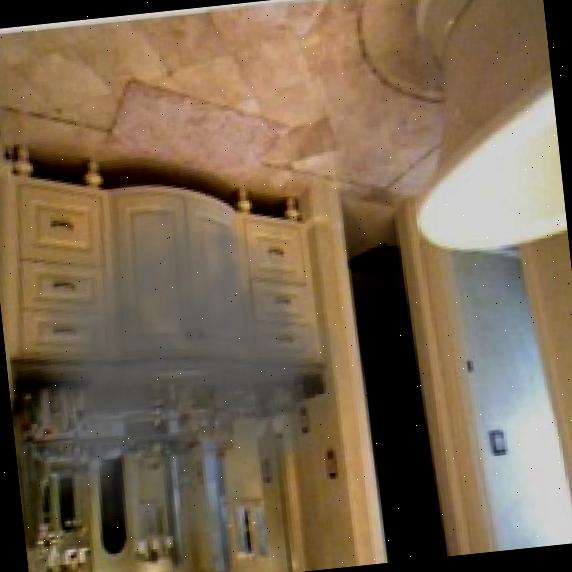smoke: (0, 148, 407, 572)
